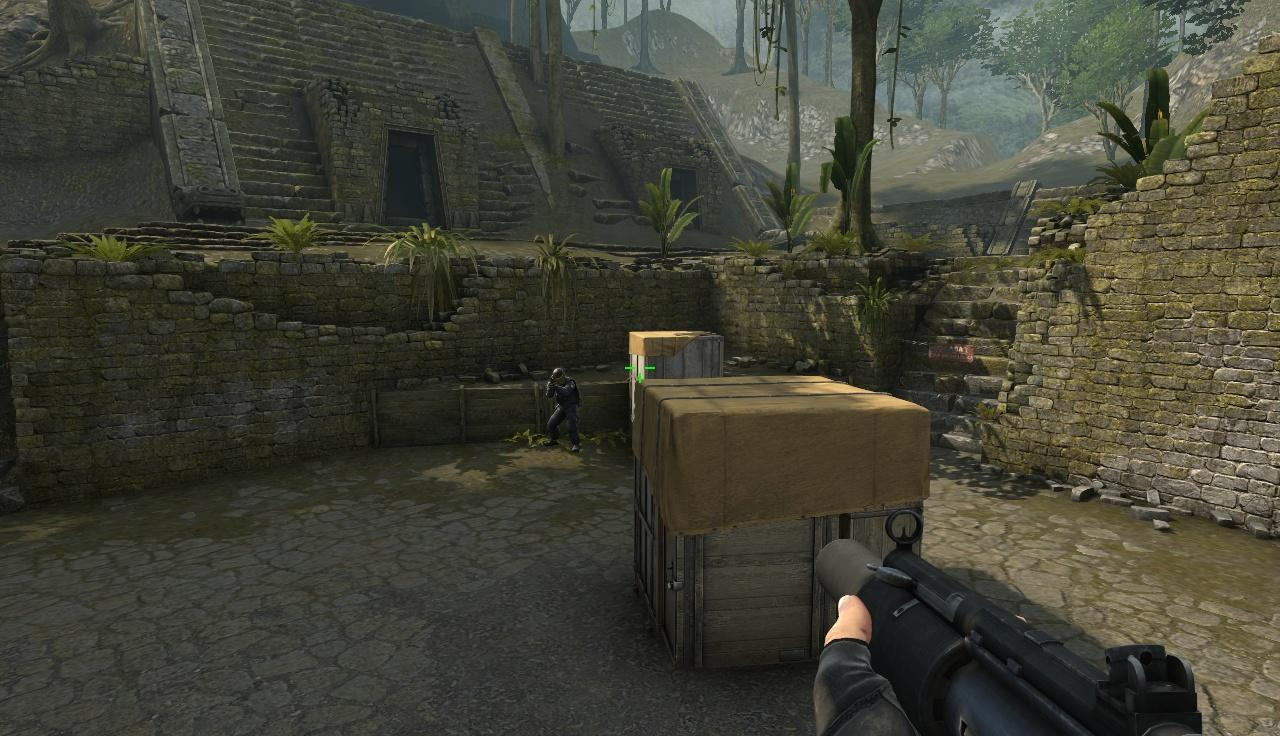ct: (548, 367, 582, 453)
cthead: (552, 367, 565, 385)
rifle: (820, 516, 1241, 736)
